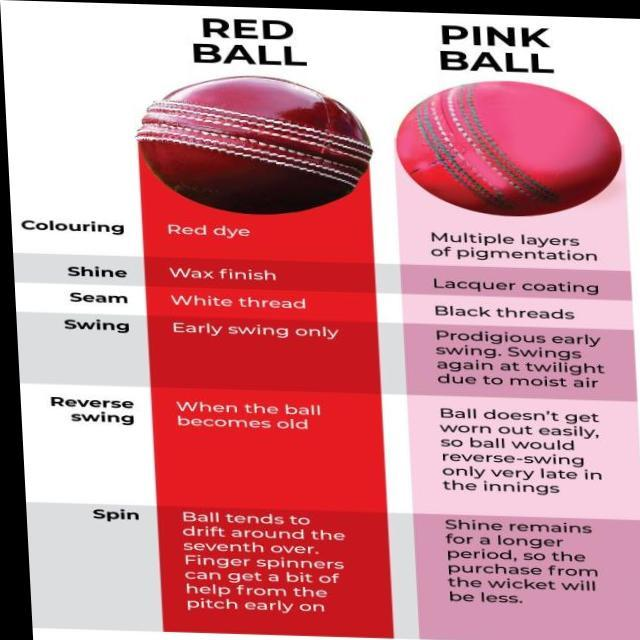cricket ball: (135, 75, 368, 213), (395, 79, 620, 214)
